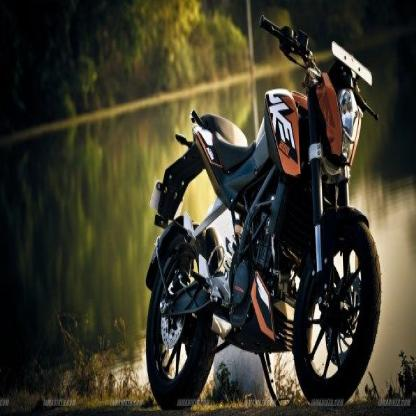bike: (140, 18, 380, 405)
